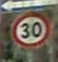limite 30: (10, 11, 51, 47)
